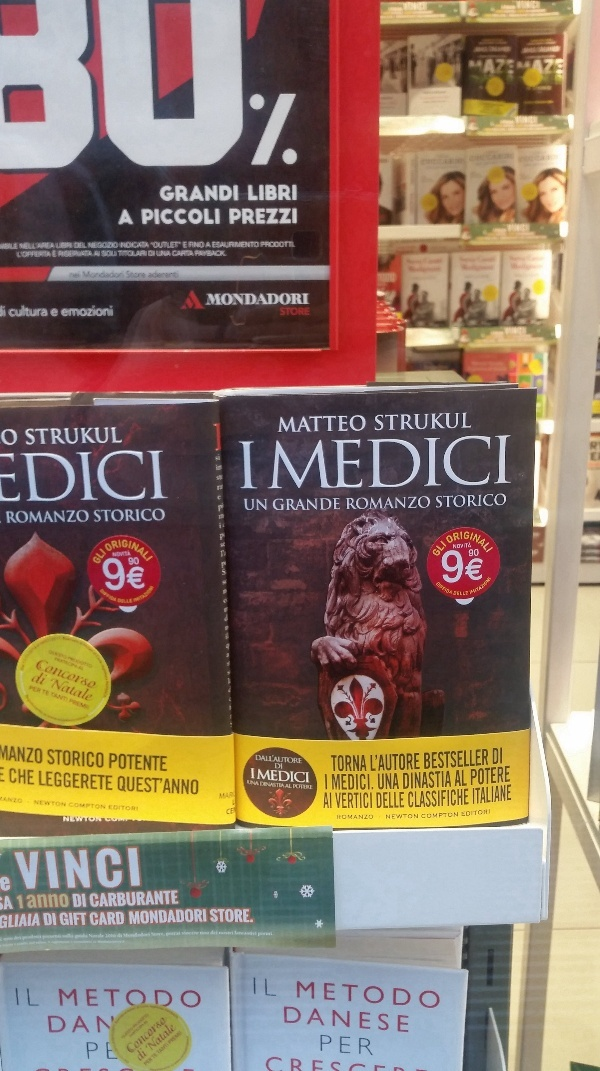text: (289, 434, 304, 493), (305, 434, 320, 493), (321, 434, 336, 493), (337, 434, 352, 493), (353, 434, 368, 493), (369, 434, 384, 493), (385, 434, 400, 493), (401, 434, 416, 493), (417, 434, 432, 493), (433, 434, 448, 493), (449, 434, 464, 493), (465, 434, 480, 493), (481, 434, 496, 493), (497, 434, 512, 493), (33, 448, 48, 506), (49, 448, 64, 506), (65, 448, 80, 506), (81, 448, 96, 506), (97, 448, 112, 506), (113, 448, 128, 506), (129, 448, 144, 506), (145, 448, 160, 506), (241, 439, 256, 492), (275, 434, 288, 493), (19, 448, 32, 506), (145, 1018, 160, 1068), (161, 1018, 176, 1068), (81, 651, 97, 694), (17, 846, 32, 890), (33, 846, 48, 890), (49, 846, 64, 890), (65, 846, 80, 890), (81, 846, 96, 890), (97, 846, 112, 890), (113, 846, 128, 890), (49, 651, 64, 694), (65, 651, 80, 694), (33, 664, 48, 706), (49, 664, 64, 706), (65, 664, 80, 706), (129, 1015, 144, 1057), (145, 1015, 160, 1057), (129, 846, 142, 890), (35, 651, 48, 694), (81, 664, 94, 706), (161, 448, 170, 506), (449, 550, 464, 584), (465, 550, 480, 584), (305, 979, 320, 1009), (321, 979, 336, 1009), (337, 979, 352, 1009), (353, 979, 368, 1009), (369, 979, 384, 1009), (385, 979, 400, 1009), (401, 979, 416, 1009), (417, 979, 432, 1009), (135, 1018, 144, 1068), (449, 528, 464, 557), (465, 528, 480, 557), (481, 528, 496, 557), (289, 1006, 304, 1033), (305, 1006, 320, 1033), (321, 1006, 336, 1033), (337, 1006, 352, 1033), (353, 1006, 368, 1033), (369, 1006, 384, 1033), (385, 1006, 400, 1033), (257, 976, 272, 1002), (289, 413, 304, 438), (305, 413, 320, 438), (321, 413, 336, 438), (337, 413, 352, 438), (321, 1033, 336, 1057), (337, 1033, 352, 1057), (353, 1033, 368, 1057), (49, 1015, 64, 1039), (65, 1015, 80, 1039), (81, 1015, 96, 1039), (97, 1015, 112, 1039), (353, 413, 367, 438), (113, 750, 128, 773), (129, 750, 144, 773), (145, 750, 160, 773), (161, 181, 176, 204), (177, 181, 192, 204), (193, 181, 208, 204), (209, 181, 224, 204), (225, 181, 240, 204), (481, 783, 496, 805), (65, 987, 80, 1009), (81, 987, 96, 1009), (97, 987, 112, 1009), (113, 987, 128, 1009), (129, 987, 144, 1009), (145, 987, 160, 1009), (161, 987, 176, 1009), (177, 987, 192, 1009), (33, 424, 48, 446), (49, 424, 64, 446), (65, 424, 80, 446), (81, 424, 96, 446), (97, 424, 112, 446), (129, 775, 144, 797), (145, 775, 160, 797), (161, 775, 176, 797), (177, 775, 192, 797), (97, 1042, 112, 1064), (417, 788, 432, 809), (433, 788, 448, 809), (449, 788, 464, 809), (385, 412, 400, 433), (401, 412, 416, 433), (417, 412, 432, 433), (433, 412, 448, 433), (449, 412, 464, 433), (17, 989, 32, 1010), (145, 207, 160, 228), (161, 207, 176, 228), (177, 207, 192, 228), (193, 207, 208, 228), (97, 891, 112, 912), (113, 891, 128, 912), (129, 891, 144, 912), (145, 891, 160, 912), (161, 891, 176, 912), (49, 773, 64, 794), (65, 773, 80, 794), (81, 773, 96, 794), (97, 773, 112, 794), (497, 783, 511, 805), (225, 789, 236, 817), (385, 752, 400, 772), (401, 752, 416, 772), (433, 749, 448, 769), (449, 749, 464, 769), (465, 749, 480, 769), (417, 771, 432, 791), (433, 771, 448, 791), (49, 749, 64, 769), (65, 749, 80, 769), (81, 749, 96, 769), (17, 769, 32, 789), (65, 912, 80, 932), (177, 1018, 183, 1068), (481, 576, 494, 599), (193, 910, 209, 928), (481, 767, 496, 786), (241, 208, 256, 227), (257, 208, 272, 227), (273, 208, 288, 227), (225, 909, 240, 928), (1, 794, 16, 813), (17, 794, 32, 813), (33, 794, 48, 813), (49, 794, 64, 813), (65, 794, 80, 813), (81, 794, 96, 813), (97, 794, 112, 813), (113, 794, 128, 813), (370, 752, 384, 772), (337, 773, 352, 791), (353, 773, 368, 791), (385, 791, 400, 809), (97, 506, 112, 524), (113, 506, 128, 524), (129, 506, 144, 524), (145, 506, 160, 524), (257, 184, 272, 202), (273, 184, 288, 202), (129, 910, 144, 928), (145, 910, 160, 928), (161, 910, 176, 928), (177, 910, 192, 928), (210, 909, 224, 928), (433, 539, 447, 558), (403, 771, 416, 791), (337, 755, 352, 772), (337, 792, 352, 809), (353, 792, 368, 809), (449, 493, 464, 510), (465, 493, 480, 510), (481, 493, 496, 510), (273, 497, 288, 514), (289, 497, 304, 514), (305, 497, 320, 514), (321, 497, 336, 514), (17, 509, 32, 526), (33, 509, 48, 526), (49, 509, 64, 526), (65, 509, 80, 526), (97, 911, 112, 928), (33, 893, 48, 910), (49, 893, 64, 910), (469, 576, 480, 599), (385, 772, 399, 790), (209, 207, 221, 228), (161, 1015, 167, 1057), (497, 767, 510, 786), (113, 424, 124, 446), (257, 768, 272, 784), (273, 768, 288, 784), (289, 768, 304, 784), (353, 755, 367, 772), (441, 550, 448, 584), (228, 208, 240, 227), (353, 496, 368, 511), (369, 496, 384, 511), (385, 496, 400, 511), (401, 496, 416, 511), (417, 496, 432, 511), (113, 911, 126, 928), (325, 771, 336, 791), (401, 1006, 409, 1033), (297, 979, 304, 1009), (465, 412, 475, 433), (209, 293, 224, 307), (225, 293, 240, 307), (241, 293, 256, 307), (257, 293, 272, 307), (273, 293, 288, 307), (289, 293, 304, 307), (441, 528, 448, 557), (280, 413, 288, 438), (193, 987, 202, 1009), (119, 775, 128, 797), (87, 1042, 96, 1064), (241, 909, 251, 928), (129, 794, 139, 813), (39, 773, 48, 794), (437, 493, 448, 510), (5, 509, 16, 526), (437, 578, 448, 595), (433, 979, 439, 1009), (257, 778, 272, 790), (273, 778, 288, 790), (289, 778, 304, 790), (24, 424, 32, 446), (471, 767, 480, 786), (289, 208, 298, 227), (497, 493, 507, 510), (408, 788, 416, 809), (376, 412, 384, 433), (244, 498, 256, 512), (88, 891, 96, 912), (289, 307, 304, 318), (257, 754, 272, 765), (273, 754, 288, 765), (289, 184, 298, 202), (424, 749, 432, 769), (481, 749, 489, 769), (326, 792, 336, 808), (473, 783, 480, 805), (289, 754, 303, 765), (81, 509, 90, 526), (71, 894, 80, 911), (33, 989, 40, 1010), (113, 1015, 119, 1039), (248, 184, 256, 202), (257, 498, 267, 512), (97, 749, 104, 769), (9, 769, 16, 789), (81, 912, 88, 932), (161, 750, 167, 773), (88, 911, 96, 928), (58, 987, 64, 1009), (193, 775, 199, 797), (13, 846, 16, 890), (377, 772, 384, 790), (457, 770, 464, 788), (377, 791, 384, 809), (129, 206, 135, 227), (125, 1015, 128, 1057), (465, 809, 480, 817), (337, 813, 352, 821), (353, 813, 368, 821), (369, 813, 384, 821), (385, 813, 400, 821), (401, 813, 416, 821), (58, 912, 64, 932), (246, 778, 256, 790), (81, 894, 88, 911), (49, 914, 57, 928), (220, 789, 224, 817), (453, 541, 464, 551), (284, 1006, 288, 1033), (238, 439, 240, 492), (433, 812, 448, 819), (123, 206, 128, 227), (26, 893, 32, 910), (481, 550, 484, 584), (469, 548, 480, 557), (305, 293, 312, 307), (369, 1033, 373, 1057), (250, 768, 256, 784), (305, 778, 313, 790), (346, 496, 352, 511), (161, 506, 166, 524), (280, 307, 288, 318), (113, 1042, 117, 1064), (331, 755, 336, 772), (65, 893, 70, 910), (465, 788, 469, 809), (305, 768, 310, 784), (253, 976, 256, 1002), (273, 976, 276, 1002), (275, 763, 288, 769), (421, 812, 432, 819), (305, 307, 312, 318), (332, 773, 336, 791), (481, 809, 490, 817), (401, 791, 405, 809), (454, 589, 464, 596), (369, 792, 373, 809), (449, 812, 458, 819), (177, 891, 180, 912), (417, 752, 420, 772), (449, 771, 452, 791), (465, 541, 471, 551), (497, 528, 499, 557), (44, 914, 48, 928), (93, 506, 96, 524), (257, 439, 258, 492), (337, 497, 340, 514), (449, 578, 452, 595), (110, 750, 112, 773), (142, 207, 144, 228), (31, 664, 32, 706), (465, 770, 467, 788), (465, 589, 469, 596), (113, 773, 114, 794), (33, 769, 34, 789), (431, 539, 432, 558), (369, 773, 370, 791), (335, 792, 336, 809), (462, 809, 464, 817), (207, 293, 208, 307), (255, 754, 256, 765), (417, 813, 418, 821)
